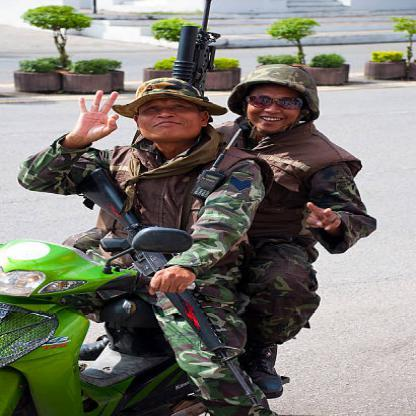Motorcycle: (5, 229, 239, 415)
